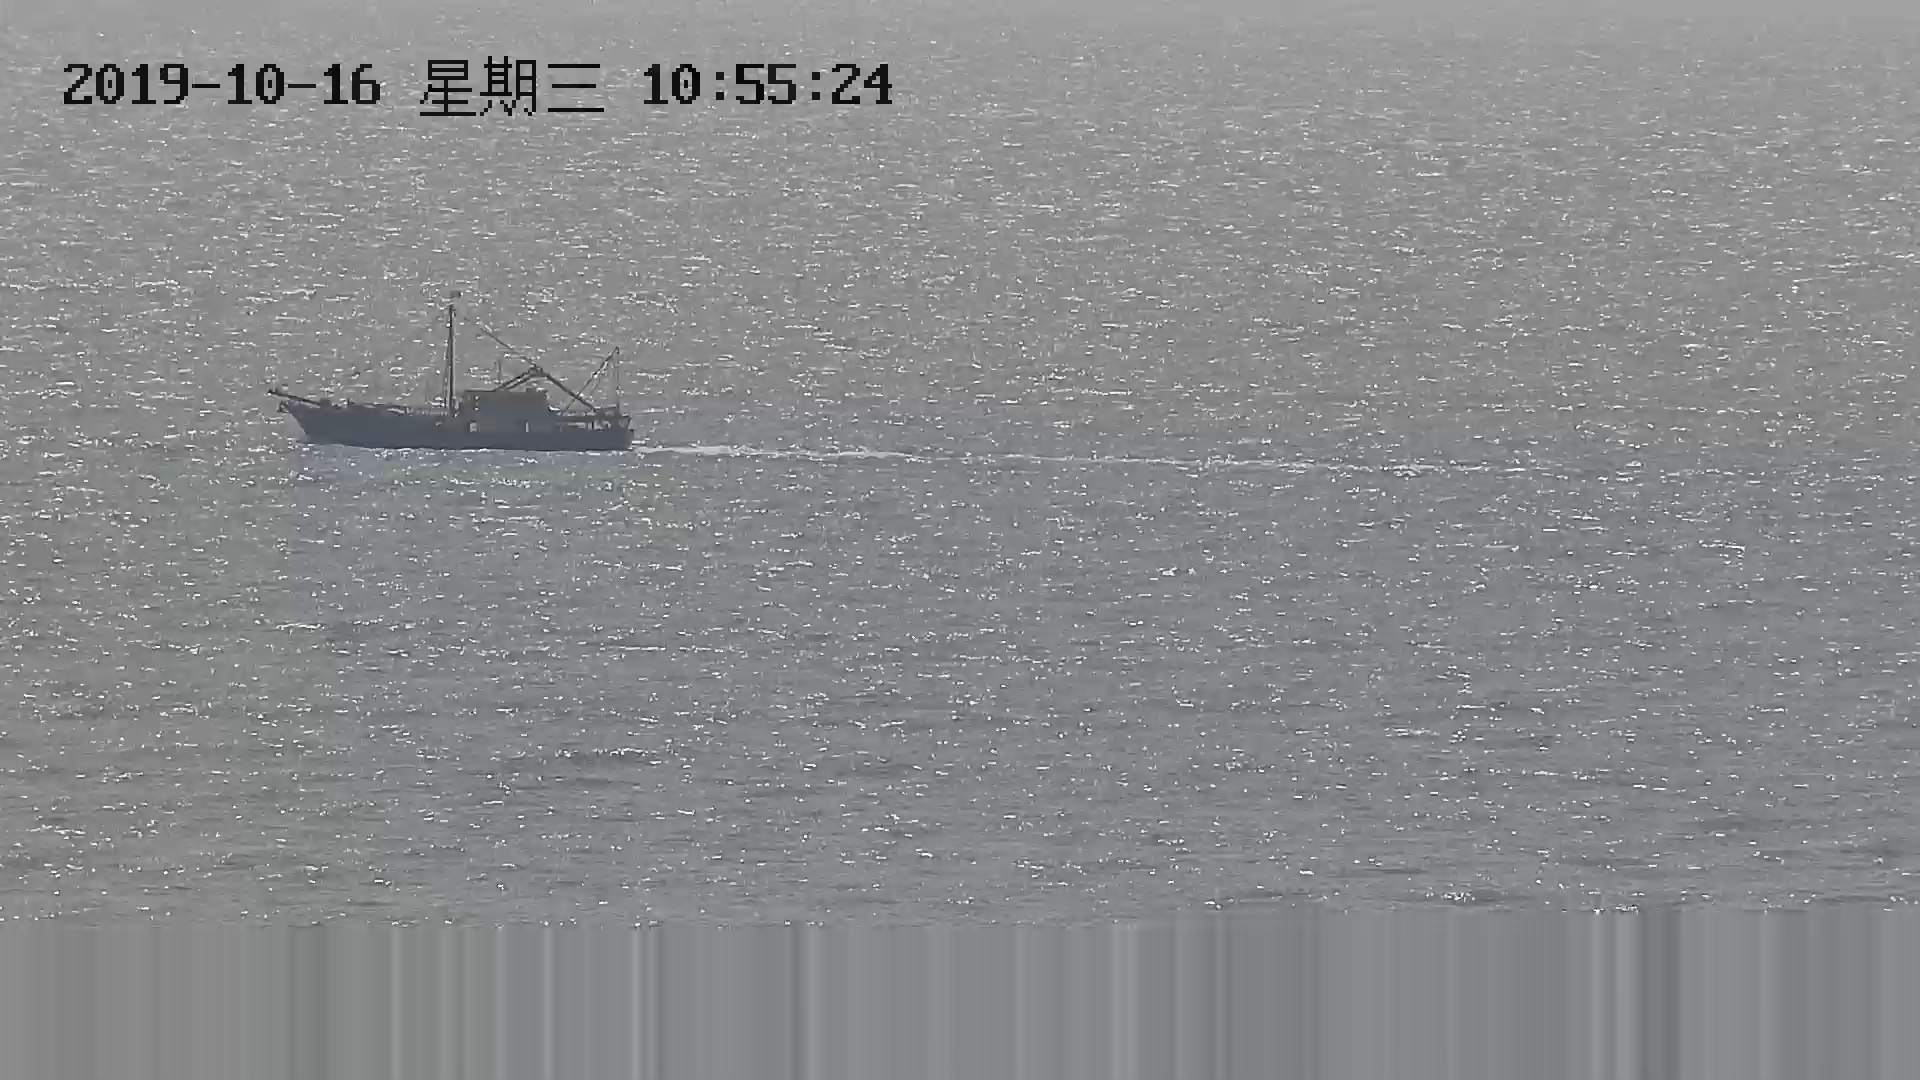ship: (270, 319, 636, 451)
